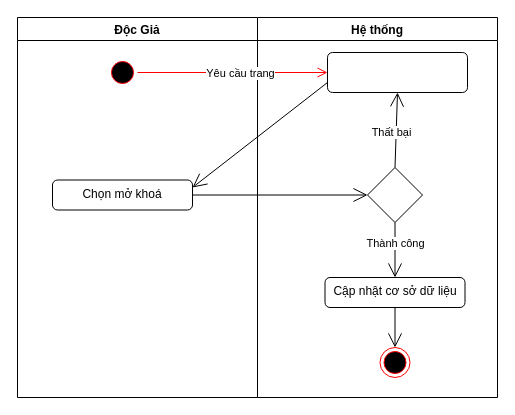
Image size: 515x415. Some labels were removed from this diagram. The centre of each missing label's shape, as x and y in pixels:
"Hiển thị danh sách Chương" belongs at point (397, 72).
"kiểm tra" belongs at point (394, 194).
